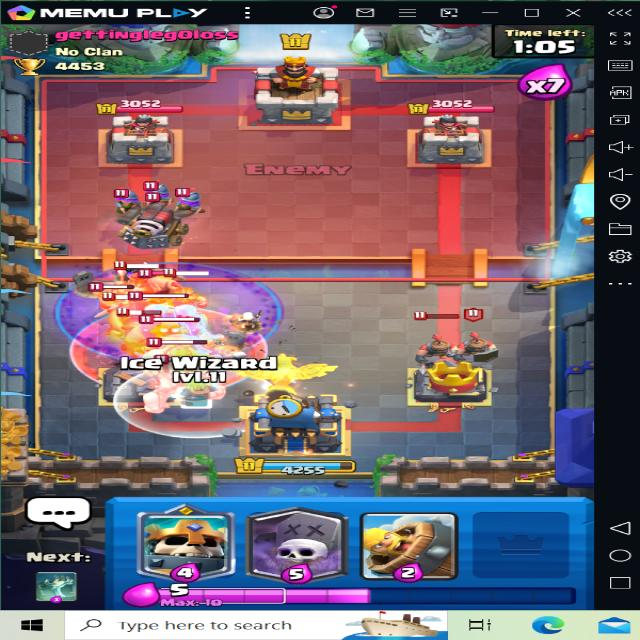electro-giant: (130, 316, 217, 359)
goblin-giant: (135, 329, 225, 381)
golem: (145, 362, 231, 414)
musketeer: (166, 196, 208, 234), (137, 182, 173, 219), (105, 194, 143, 226)
royal-recruits: (452, 328, 499, 364), (416, 331, 460, 369)
sparky: (119, 193, 189, 250)
